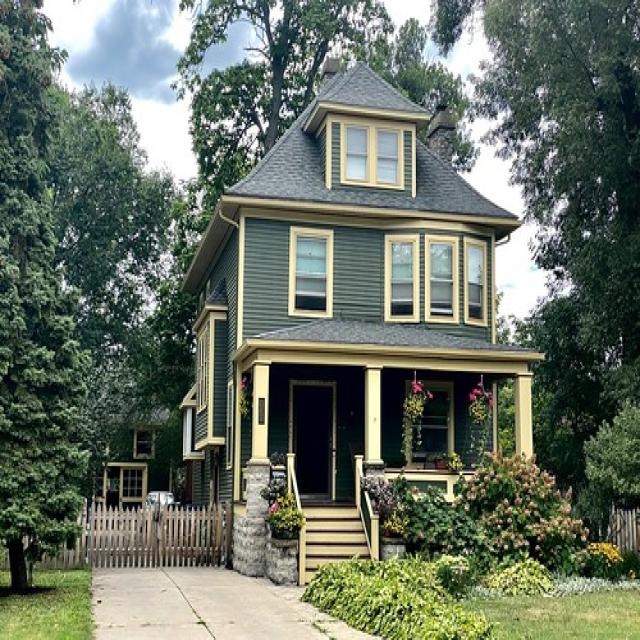building: (173, 57, 548, 586)
